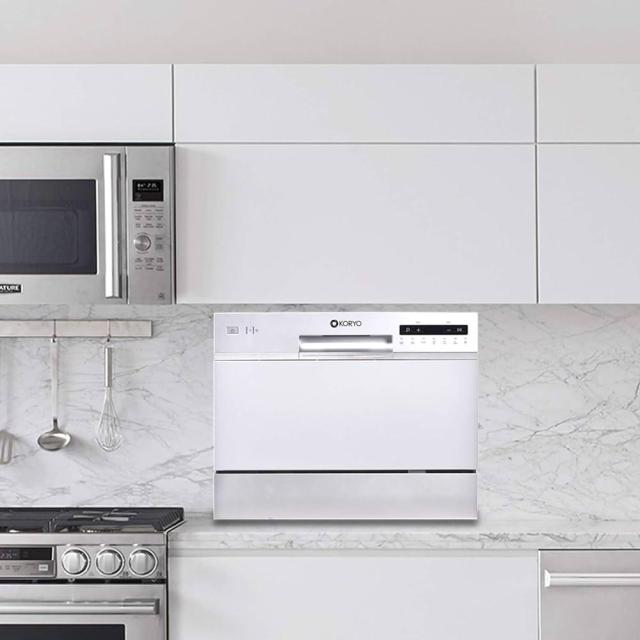dishwasher: (538, 536, 640, 640)
